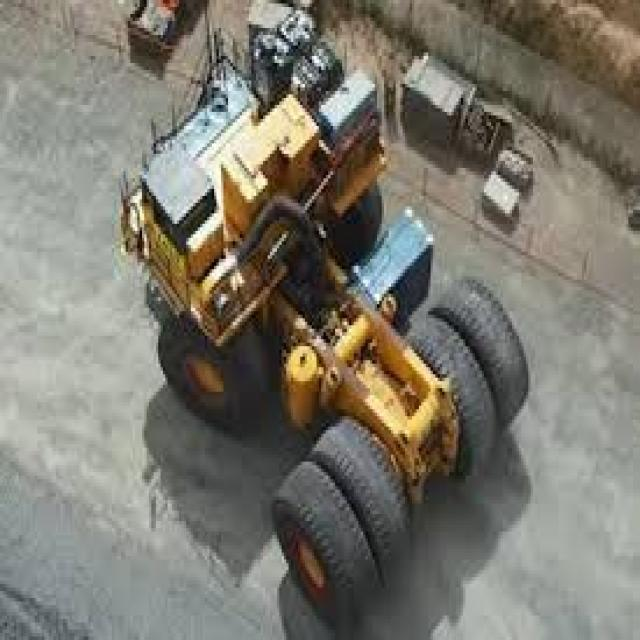dump_truck: (102, 32, 544, 591)
